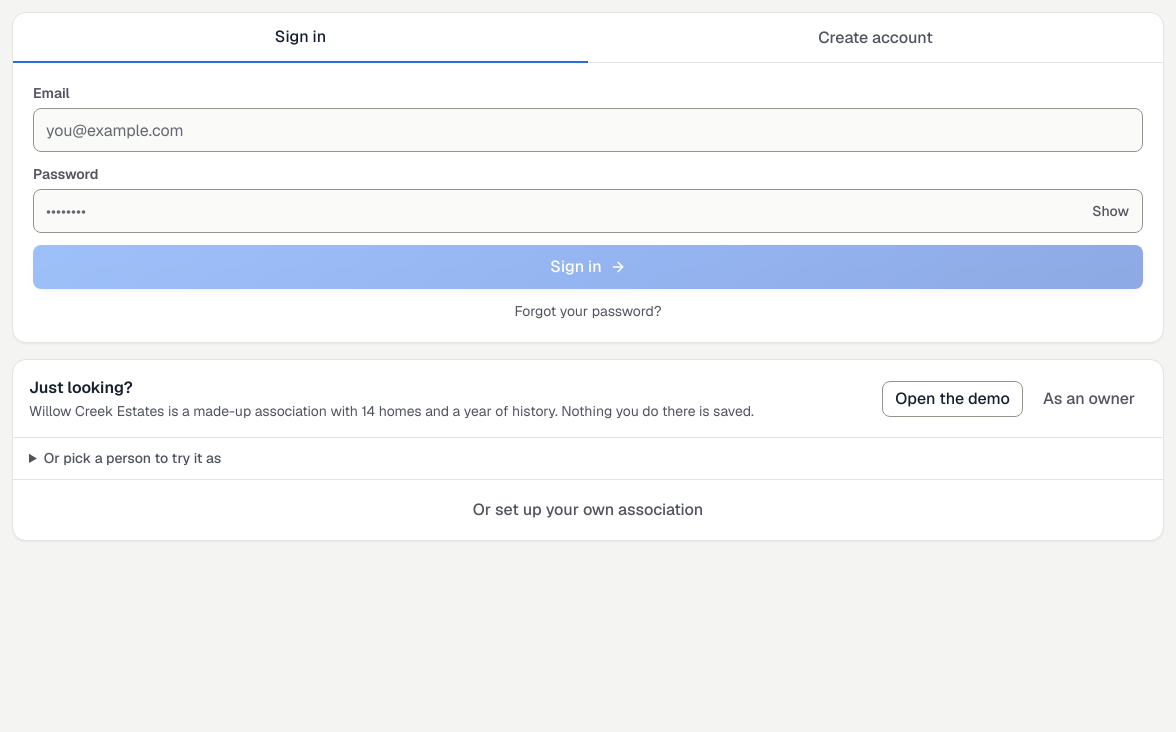
Test: the create-account notice › offers no resend under a refusal
Click the button "Create account".
click(876, 38)  # box [588,13,1163,62]
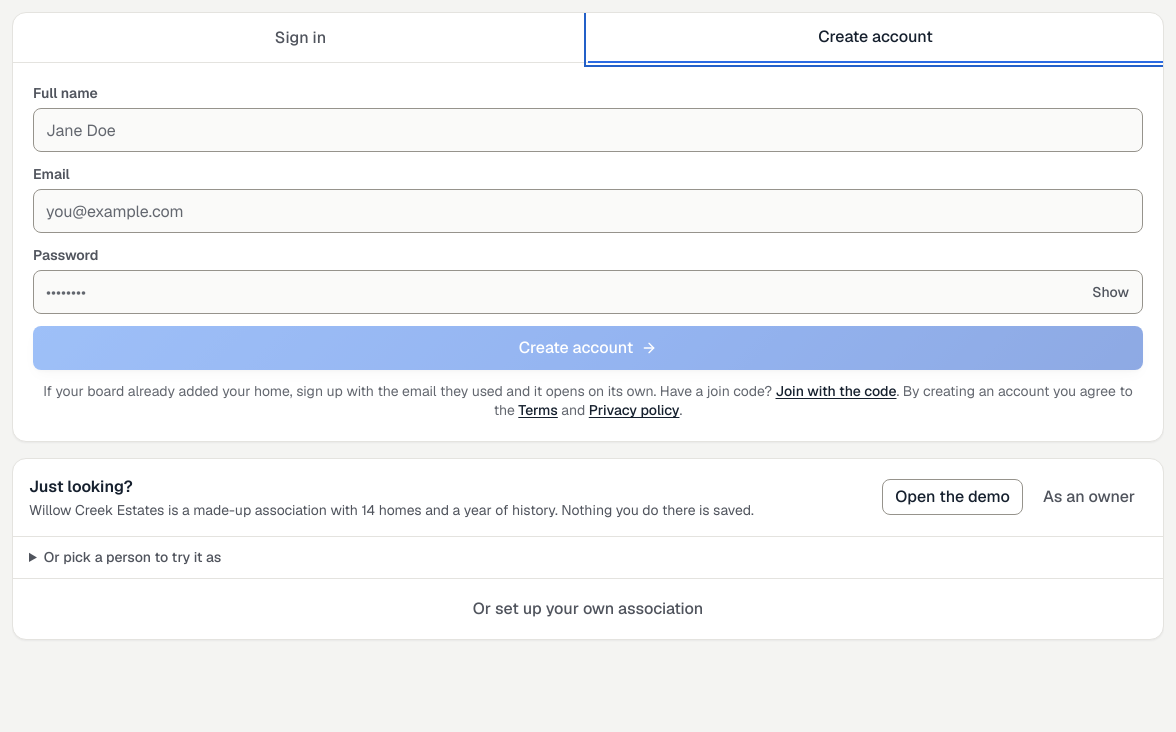
Type "Nadia Bell" into the field labelled "Full name".
click(588, 130); type("Nadia Bell")  # box [33,108,1143,152]
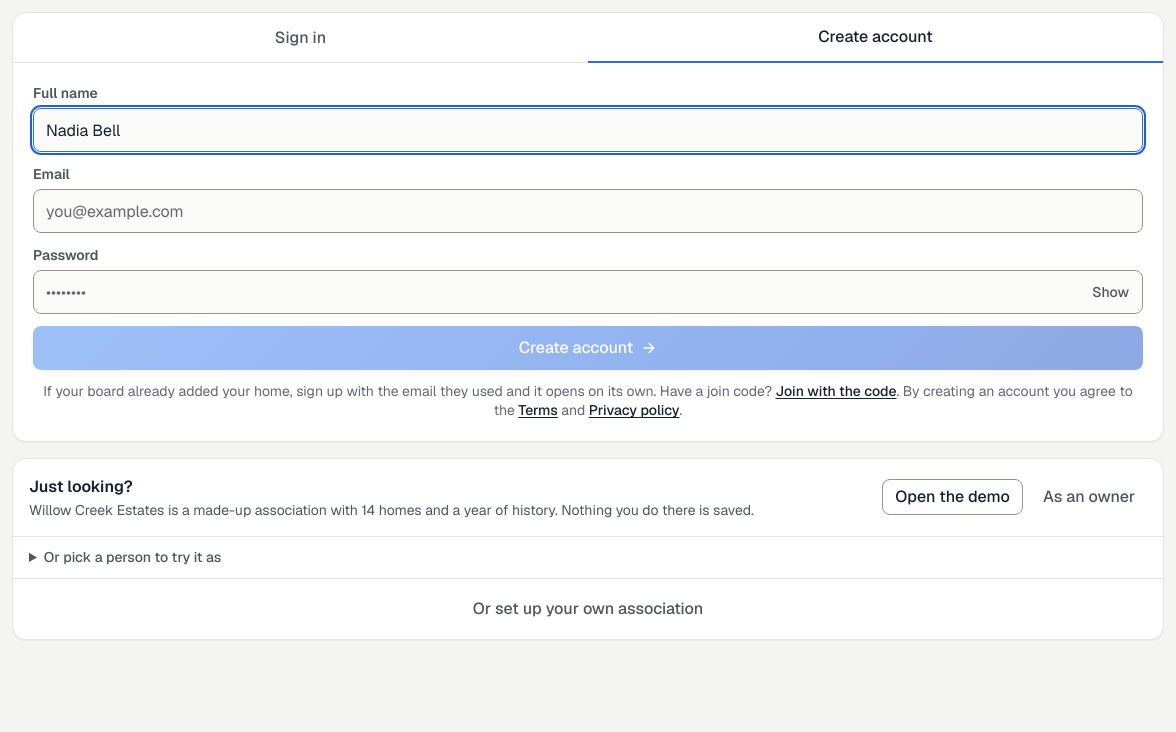
Type "nadia@example.com" into the field labelled "Email".
click(588, 211); type("nadia@example.com")  # box [33,189,1143,233]
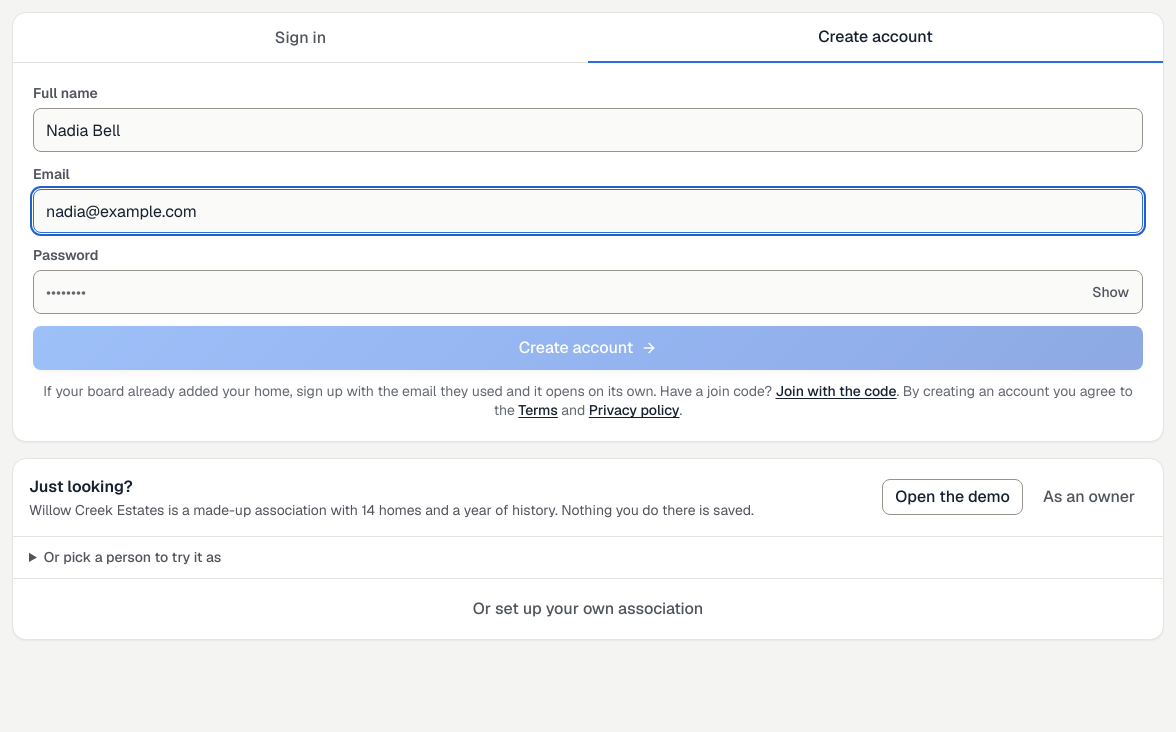
Type "correct horse" into the password field labelled "Password Show".
click(588, 292); type("correct horse")  # box [33,270,1143,314]
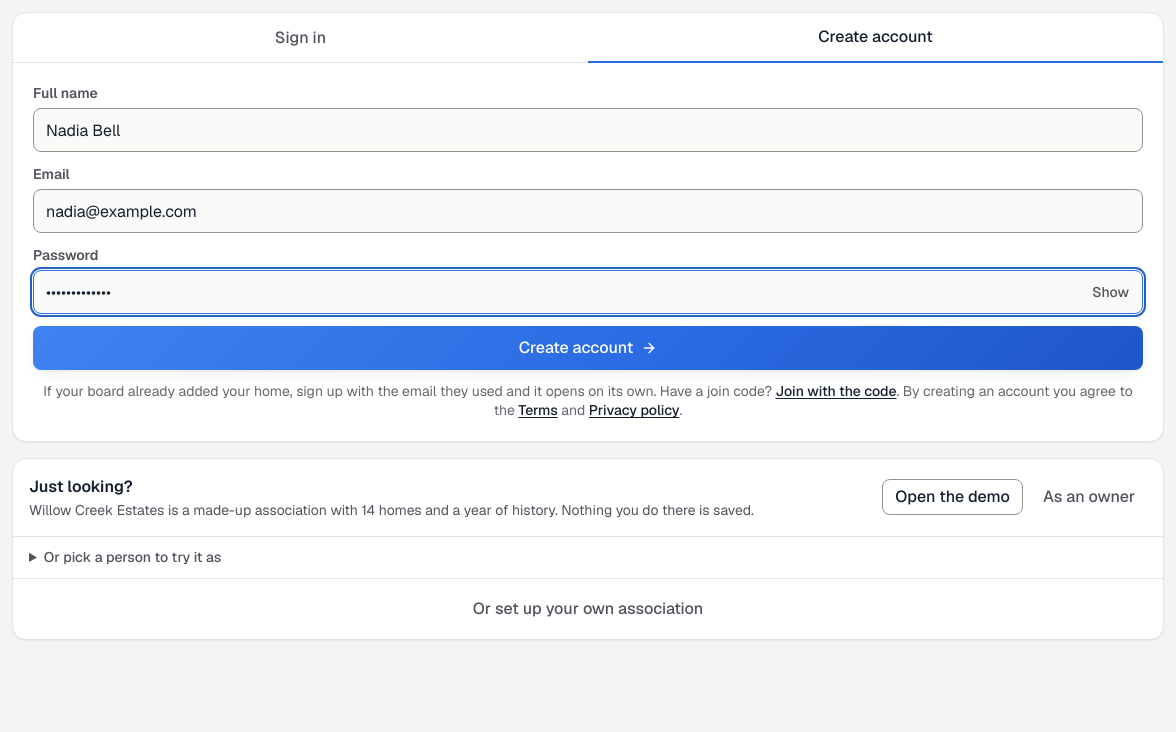
Click the button "Create account" below "Password".
click(588, 348)  # box [33,326,1143,370]
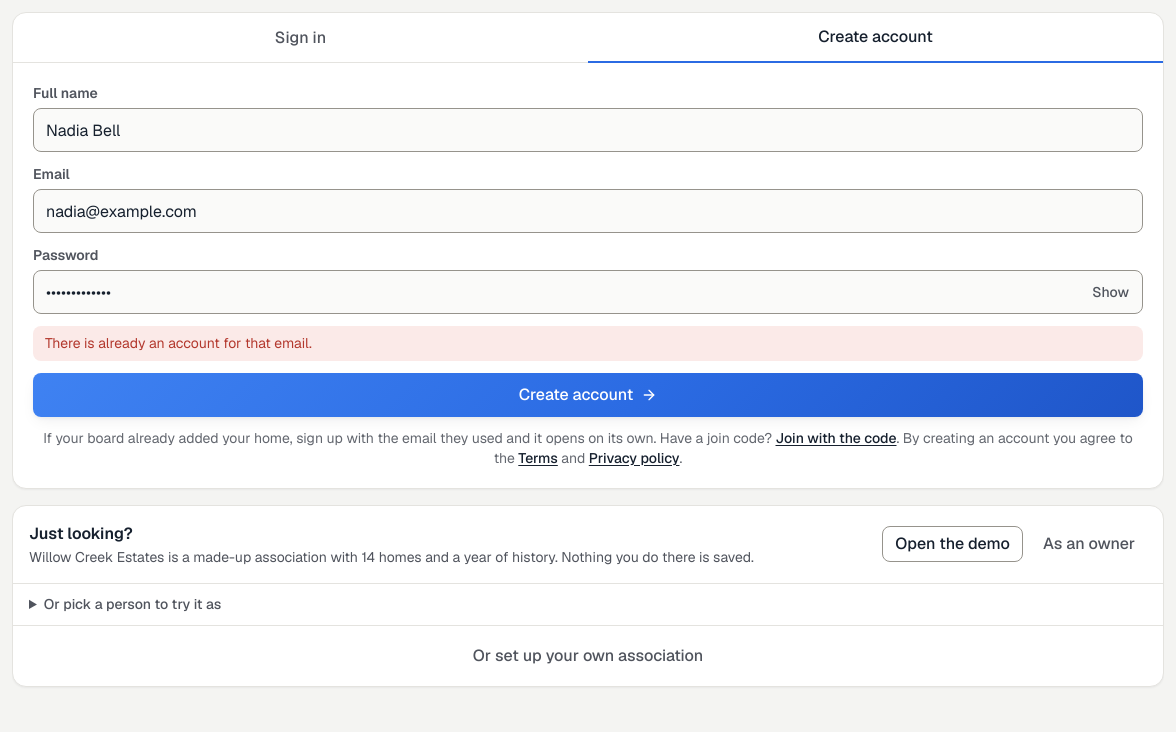
Check: the message reads "There is already an account for that email.", box [45,334,312,352]
